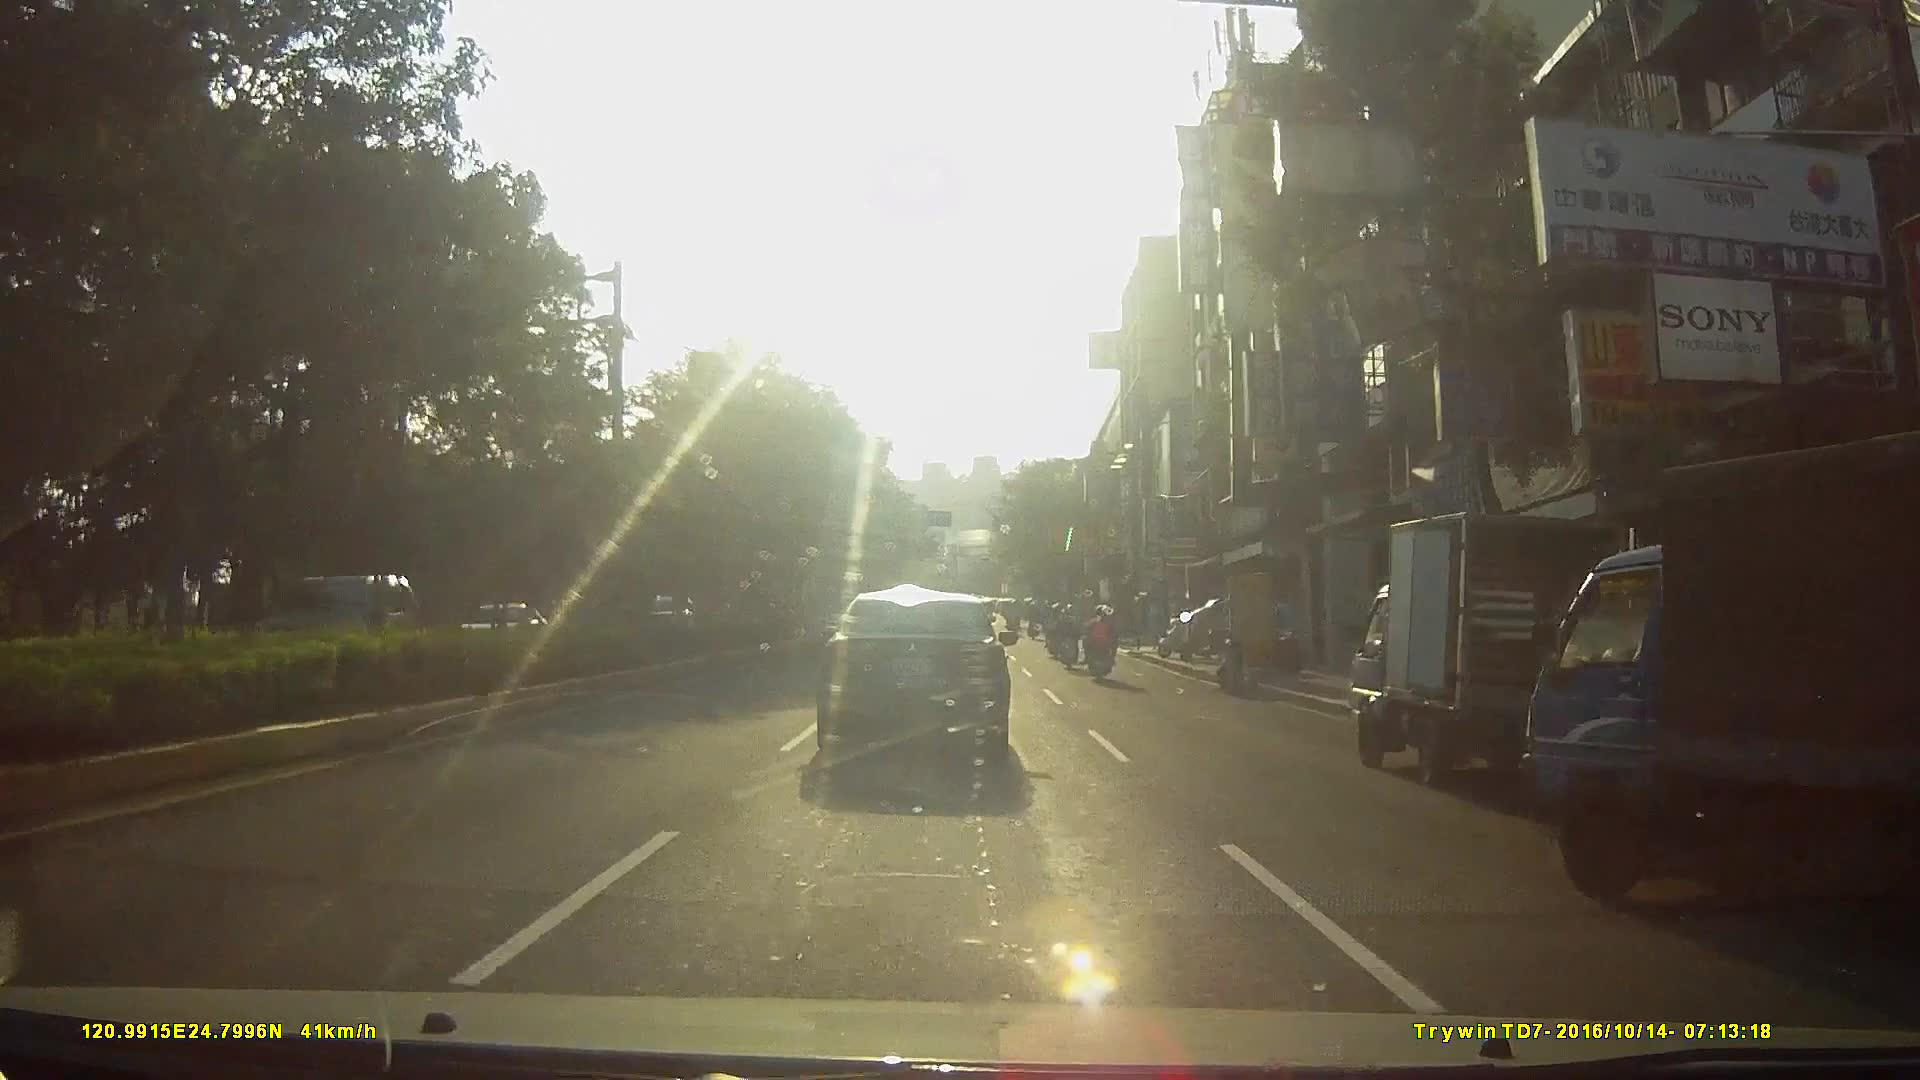rider: (1081, 603, 1121, 683), (1056, 603, 1084, 672), (1045, 606, 1065, 663)
vehicle: (1535, 436, 1920, 950), (1342, 501, 1654, 789), (811, 591, 1025, 786)
